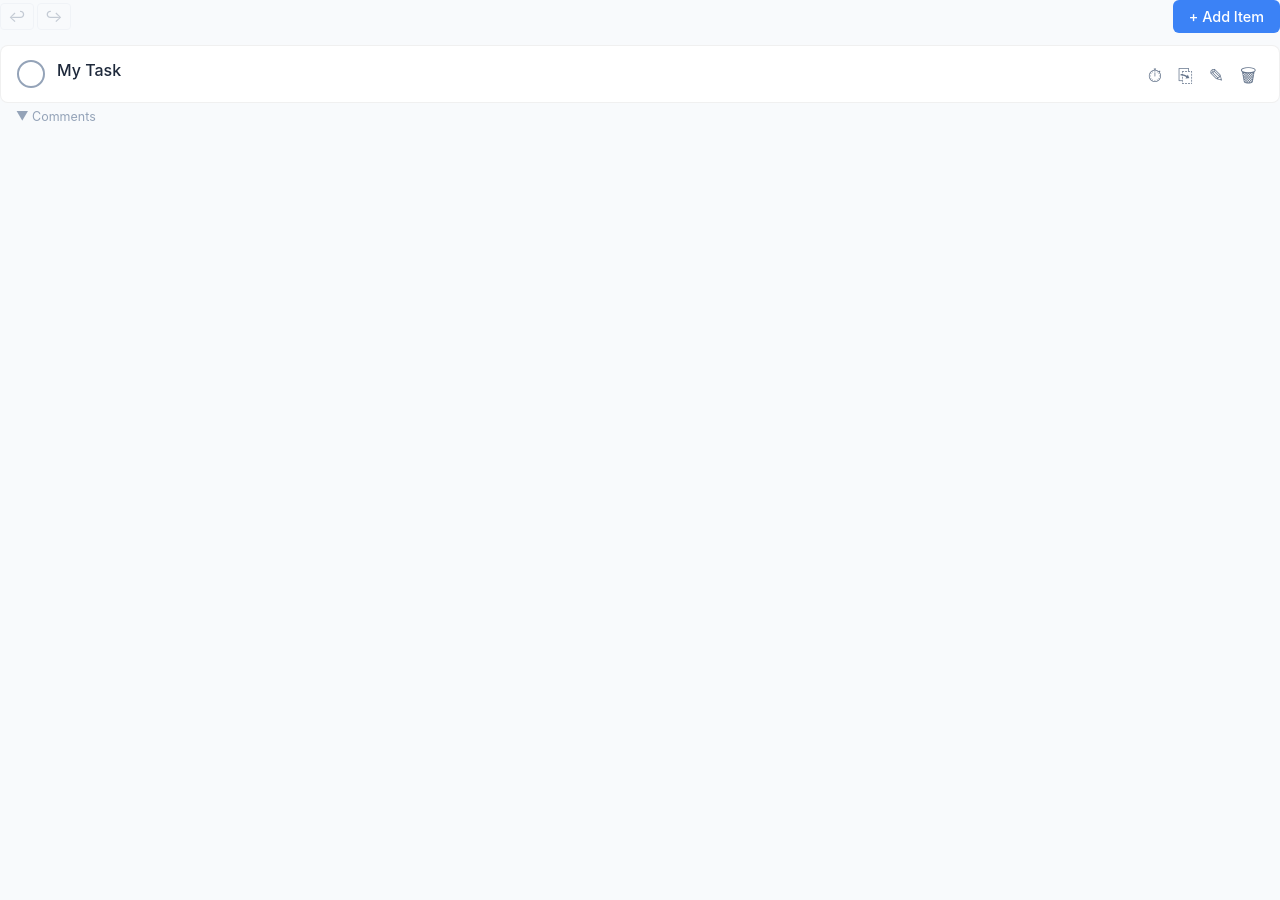
Test: ListDetailView › opens complete modal when complete button is clicked
The width and height of the screenshot is (1280, 900).
Click the button with class "complete-btn": (31, 74) [17, 60, 45, 88]
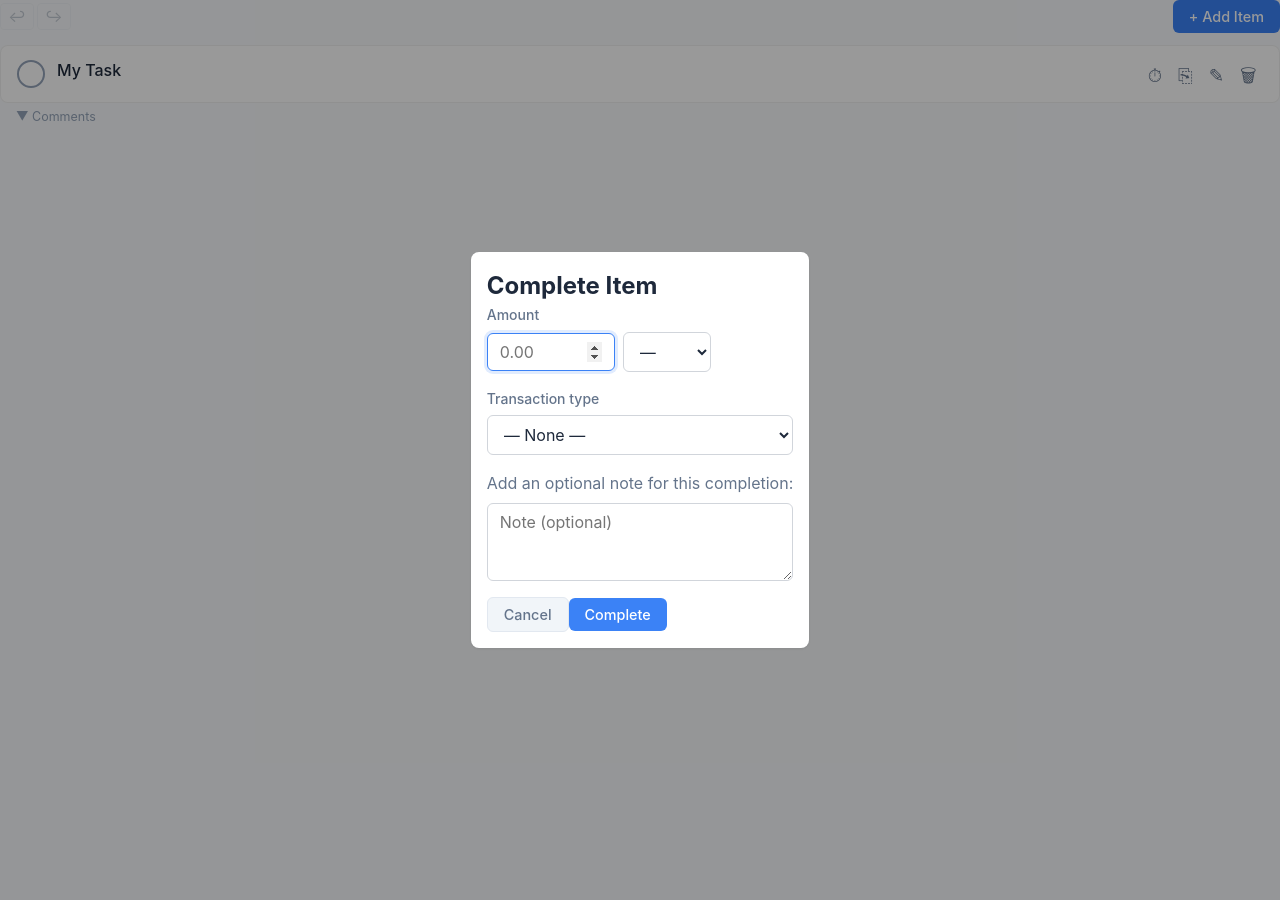
Expected: the text "Complete Item" is shown, [487, 271, 657, 300]
